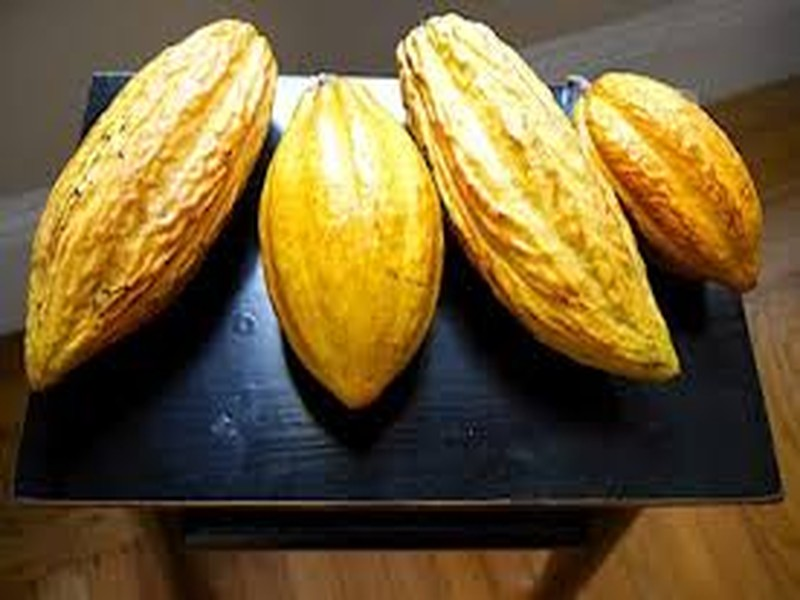Cacaopod: (24, 19, 279, 395), (260, 73, 437, 418)
